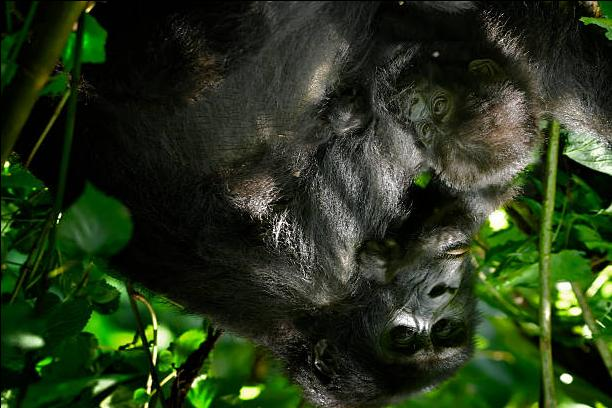goriile_montagne: (65, 10, 542, 408), (357, 0, 561, 188)
